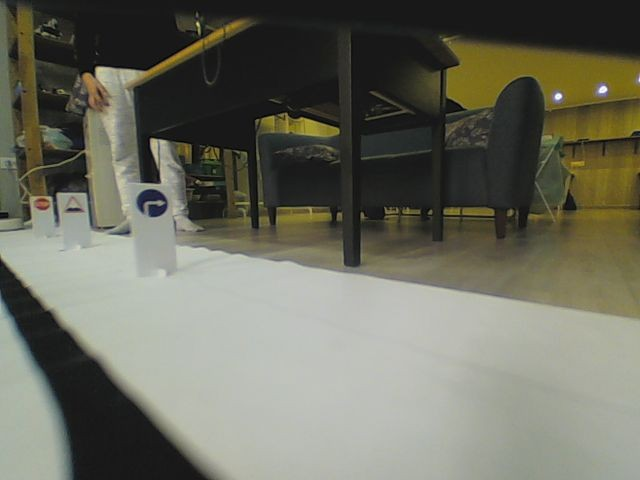Nerov: (63, 196, 84, 214)
Right: (137, 188, 168, 218)
